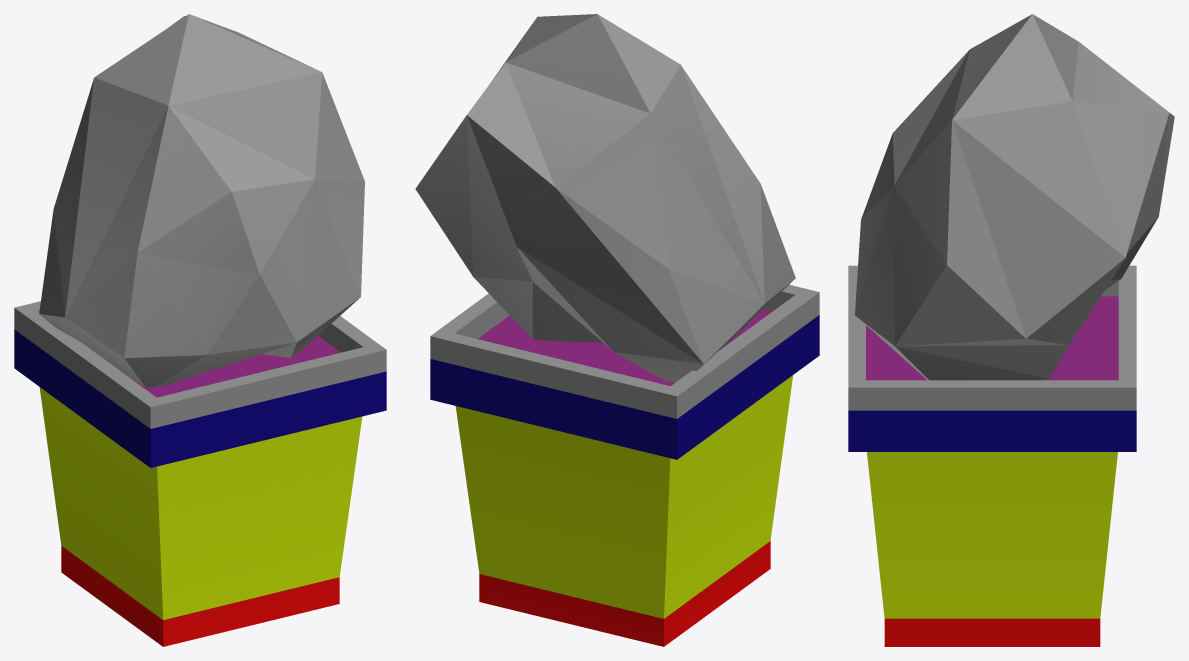
Rendered from store_bush_03.fbx.
3 views of the same model, side by side, from view 1: azimuth 30°, elevation 25°; view 2: azimuth 150°, elevation 25°; view 3: azimuth 270°, elevation 25° (orthographic). The views are drawn at different scales.
Parts seen in each view (by area): view 1: Hedra001, Box001; view 2: Box001, Hedra001; view 3: Hedra001, Box001.
Part boxes in pixels (bbox=[...]): Hedra001: bbox=[39, 14, 364, 387]; Box001: bbox=[14, 301, 386, 646]; Box001: bbox=[430, 284, 819, 646]; Hedra001: bbox=[415, 14, 795, 382]; Hedra001: bbox=[855, 14, 1174, 380]; Box001: bbox=[848, 265, 1136, 646].
Size of the model in its own units: 54.41 by 50.87 by 102.
